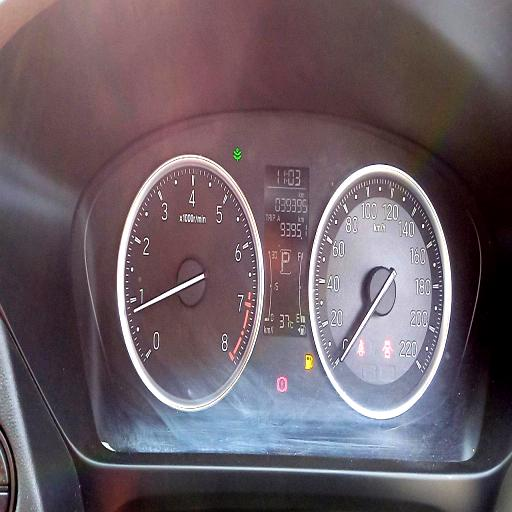belt: (358, 340, 364, 357)
brake_system_fault: (277, 376, 287, 392)
tachometer: (117, 153, 265, 410)
